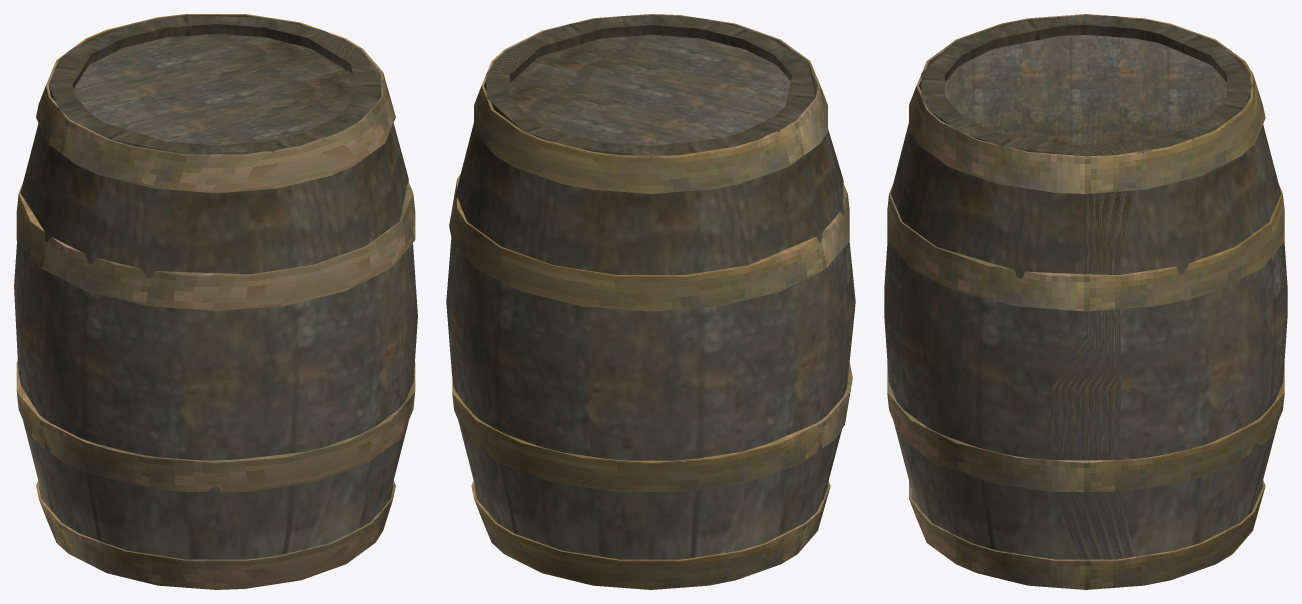
File: barrel.glb
3 renders of one model, left to right at view 1: azimuth 30°, elevation 25°; view 2: azimuth 150°, elevation 25°; view 3: azimuth 270°, elevation 25°, orthographic.
Visible parts, largest first — view 1: barrel.ms3d.mo; view 2: barrel.ms3d.mo; view 3: barrel.ms3d.mo.
Boxes of the visible parts, x1,y1,x2,y2 form: barrel.ms3d.mo: (14, 14, 417, 589); barrel.ms3d.mo: (446, 14, 855, 589); barrel.ms3d.mo: (884, 14, 1287, 589).
Size of the model in its own units: 47.41 by 56 by 47.29.
2 materials, 2 textured.
